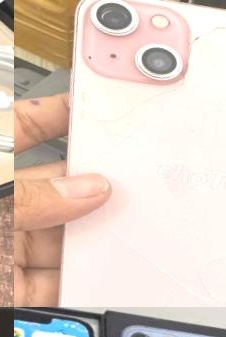physical_damage: (53, 69, 198, 193), (81, 198, 226, 307), (173, 8, 226, 118)
scratch: (76, 46, 109, 74)
